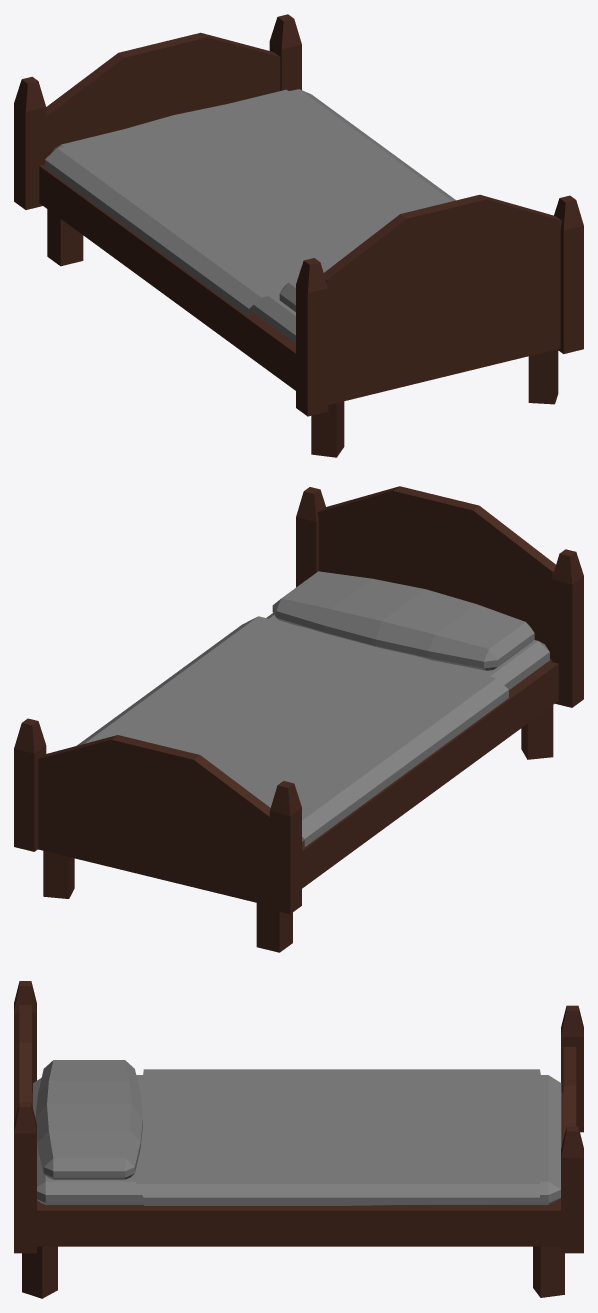
Rendered from Bed.fbx.
The picture shows the model from 3 angles, top to bottom: view 1: azimuth 30°, elevation 25°; view 2: azimuth 150°, elevation 25°; view 3: azimuth 270°, elevation 25°; orthographic projection. The views are drawn at different scales.
Parts seen in each view (by area): view 1: Cube, Cube.002, Cube.001; view 2: Cube, Cube.001, Cube.002; view 3: Cube, Cube.002, Cube.001.
Boxes of the visible parts, x1,y1,x2,y2 form: Cube: (14, 14, 583, 457); Cube.002: (324, 194, 561, 404); Cube.001: (46, 32, 280, 157); Cube: (14, 487, 583, 952); Cube.001: (38, 735, 270, 905); Cube.002: (317, 486, 555, 659); Cube: (14, 981, 583, 1298); Cube.002: (19, 1005, 31, 1103); Cube.001: (563, 1047, 576, 1137).
Size of the model in its own units: 439 by 339 by 808.
